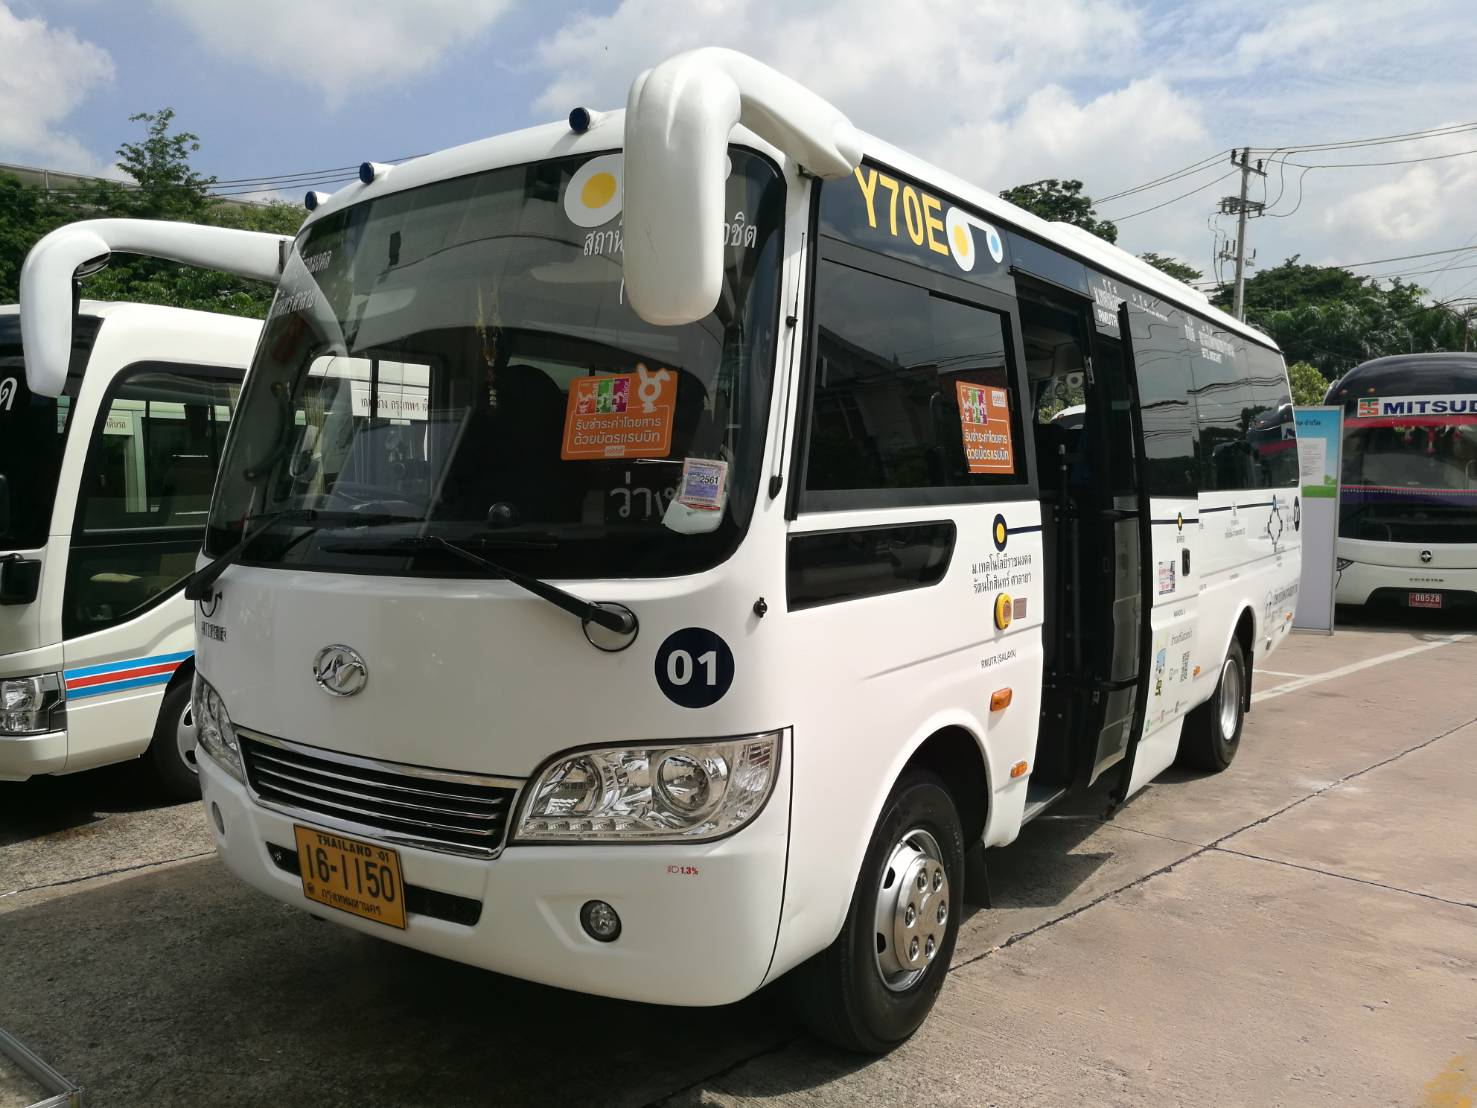bus: (196, 72, 1302, 1046)
